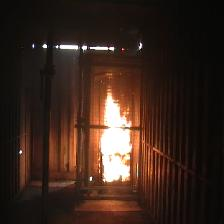fire: (101, 87, 132, 182)
